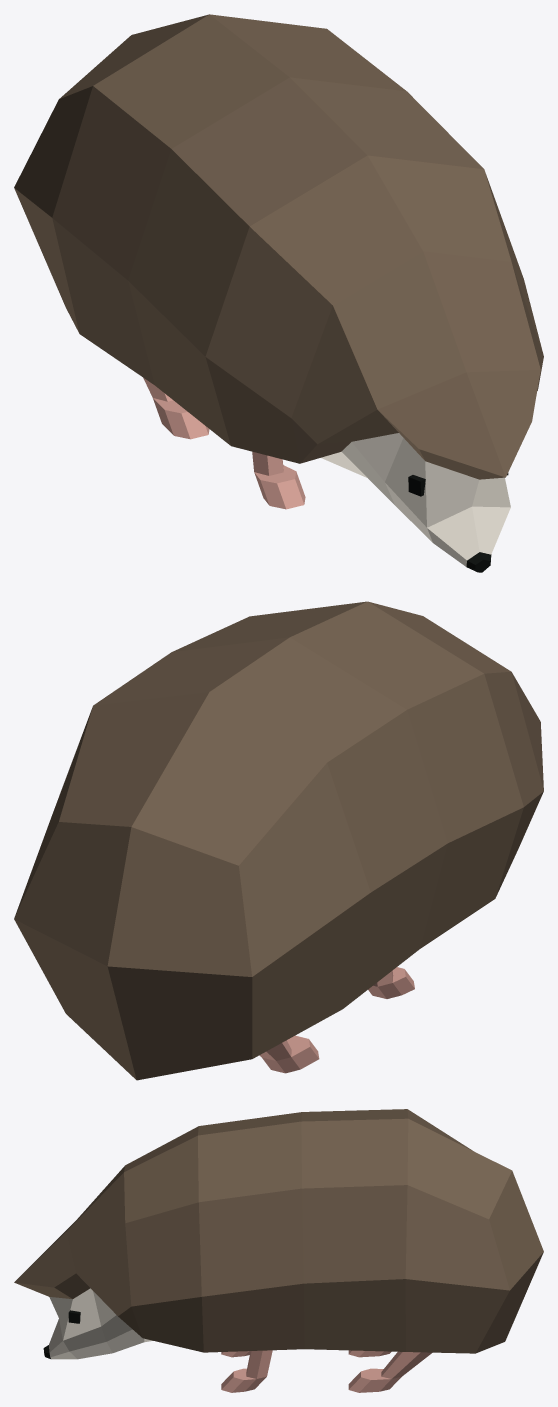
The model's file is Hedgehog.glb.
3 views of the same model, one above another, from view 1: azimuth 30°, elevation 25°; view 2: azimuth 150°, elevation 25°; view 3: azimuth 270°, elevation 25° (orthographic). The views are drawn at different scales.
Parts seen in each view (by area): view 1: Geo_Hedgehog; view 2: Geo_Hedgehog; view 3: Geo_Hedgehog.
Part boxes in pixels (x1,y1,x2,y2): Geo_Hedgehog: (14,14,543,572); Geo_Hedgehog: (14,601,543,1080); Geo_Hedgehog: (14,1109,543,1392).
Size of the model in its own units: 55 by 61.9 by 119.
1 material, 1 textured.
